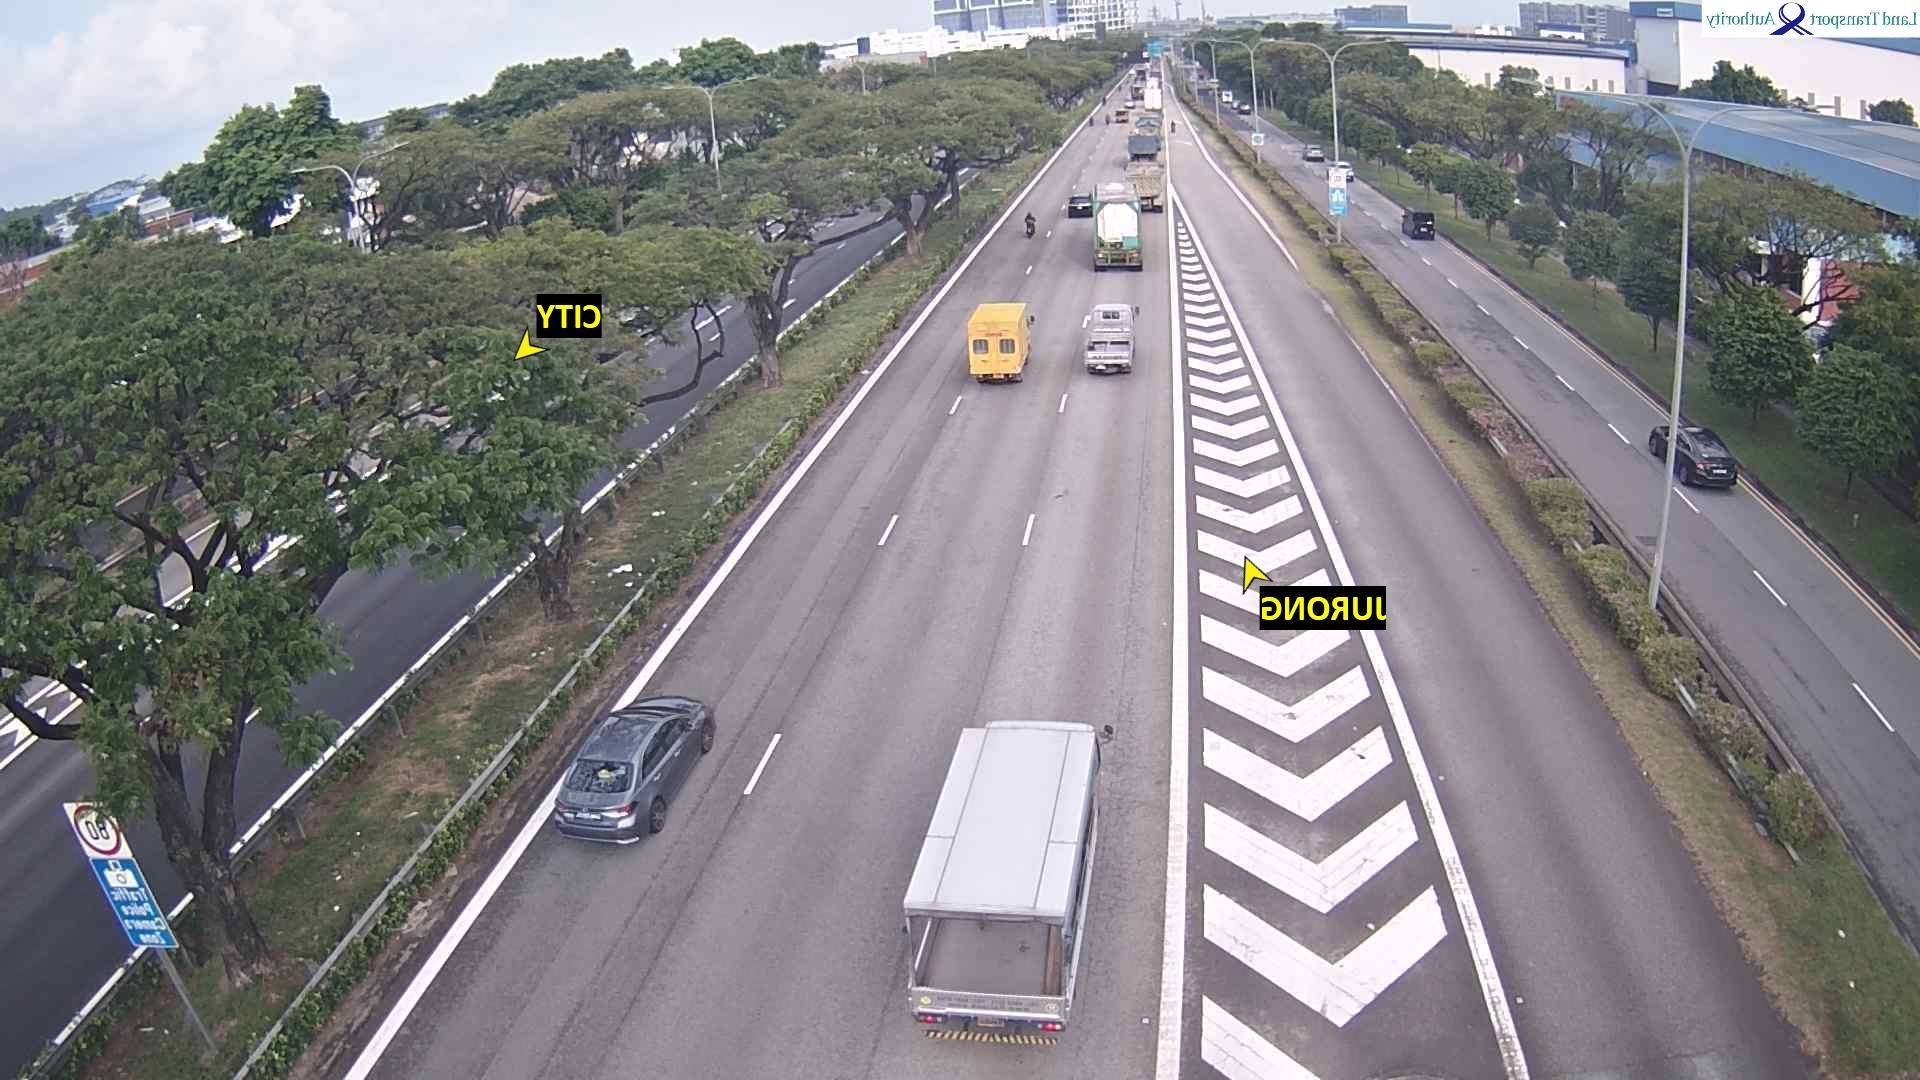cars: (554, 694, 717, 845), (1648, 421, 1739, 489), (1403, 208, 1437, 239), (1068, 193, 1095, 218), (1333, 160, 1356, 181), (1303, 144, 1327, 161), (1113, 105, 1131, 123), (1236, 100, 1251, 113), (1222, 90, 1236, 105)
motorcycle: (1025, 211, 1038, 237), (1168, 120, 1178, 135), (1104, 112, 1112, 125), (1088, 115, 1095, 125), (1116, 84, 1124, 92), (1101, 96, 1106, 105)
trucks: (901, 717, 1104, 1036), (967, 301, 1036, 384), (1092, 181, 1145, 272), (1083, 302, 1139, 375), (1124, 161, 1167, 211), (1127, 109, 1162, 161), (1141, 87, 1164, 111), (1127, 83, 1149, 99), (1149, 75, 1160, 90), (1135, 69, 1147, 82)
